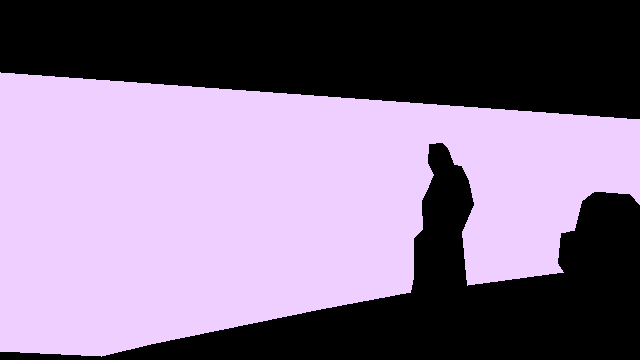Train: (0, 72, 640, 357)
